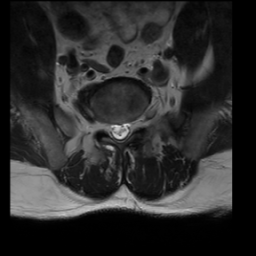CCS_normal: (116, 118, 122, 147)
LFS_normal: (132, 110, 140, 138)
LLS_normal: (122, 116, 132, 143)
RFS_normal: (100, 113, 109, 139)
RLS_normal: (109, 116, 116, 144)
